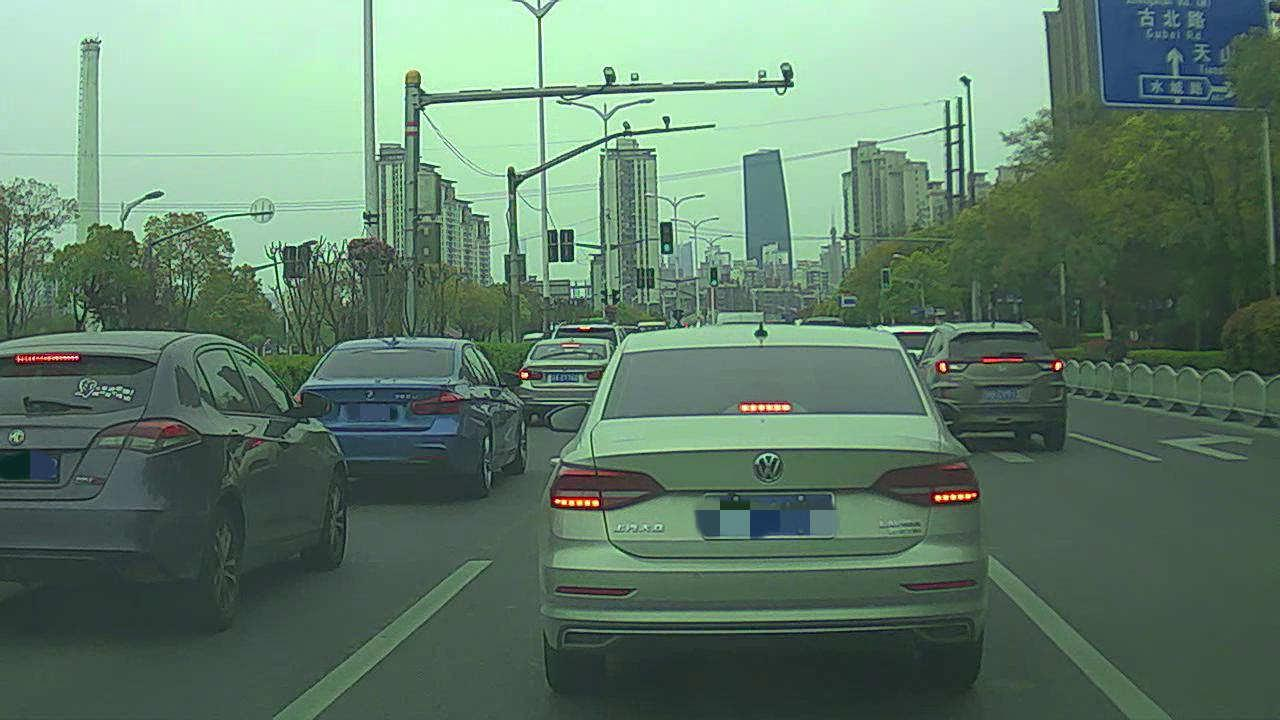traffic_light: (659, 221, 675, 255), (710, 264, 720, 287), (881, 265, 890, 290)
